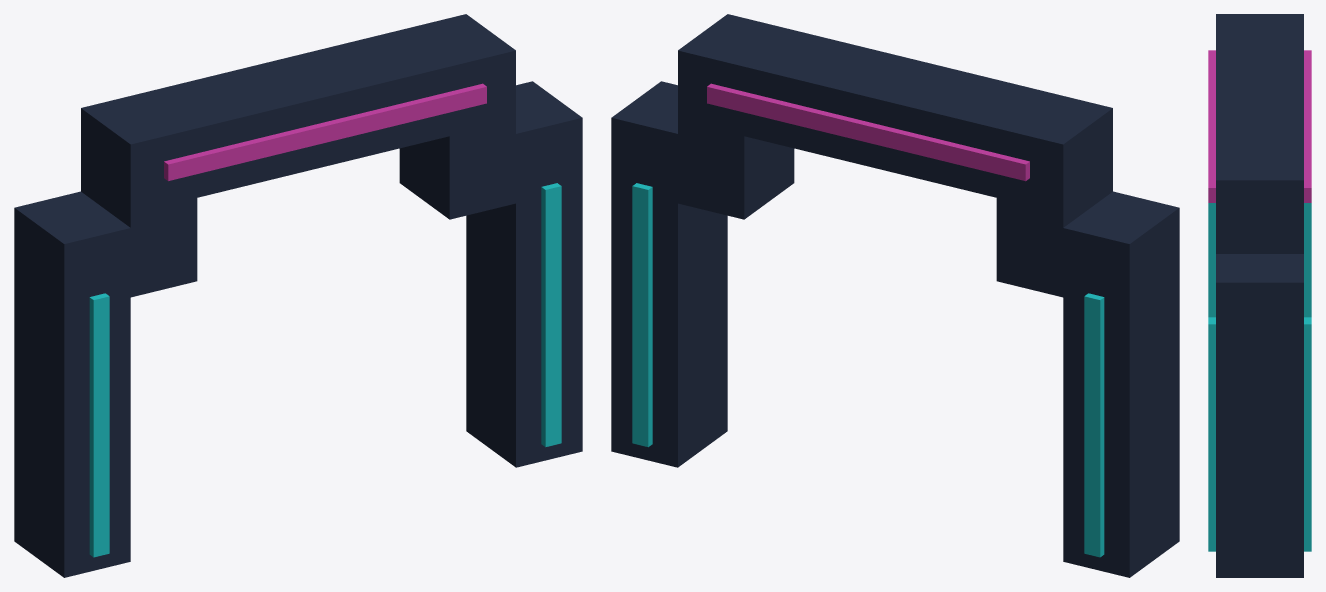
File: Neon_PixelGate_Simple.glb
The picture shows the model from 3 angles, left to right: view 1: azimuth 30°, elevation 25°; view 2: azimuth 150°, elevation 25°; view 3: azimuth 270°, elevation 25°; orthographic projection. The views are drawn at different scales.
Parts seen in each view (by area): view 1: Neon_PixelGate_Simple; view 2: Neon_PixelGate_Simple; view 3: Neon_PixelGate_Simple.
Boxes of the visible parts, x1,y1,x2,y2 form: Neon_PixelGate_Simple: (14,14,582,577); Neon_PixelGate_Simple: (611,14,1179,577); Neon_PixelGate_Simple: (1208,14,1311,577).
Bounding box in the file's own units: 3.9 × 3 × 0.76.
